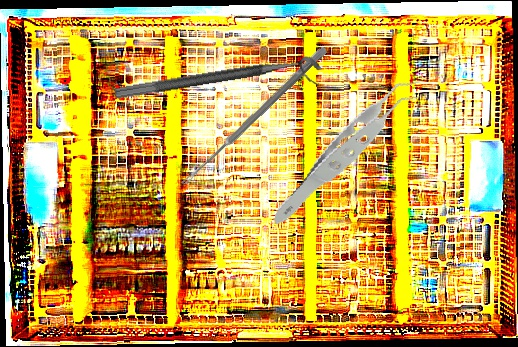Fixation Ring: (113, 53, 325, 118)
Surgical Spoon: (180, 45, 328, 188)
Tissue Forceps: (249, 75, 454, 227)
